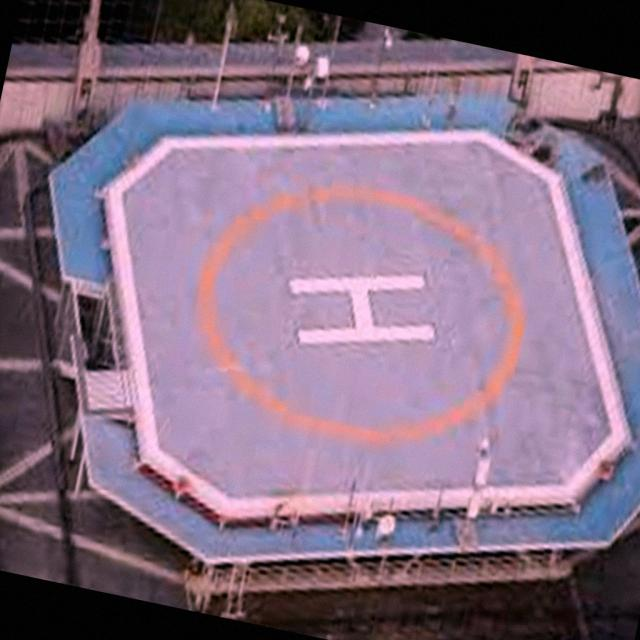helipad: (194, 175, 531, 447)
